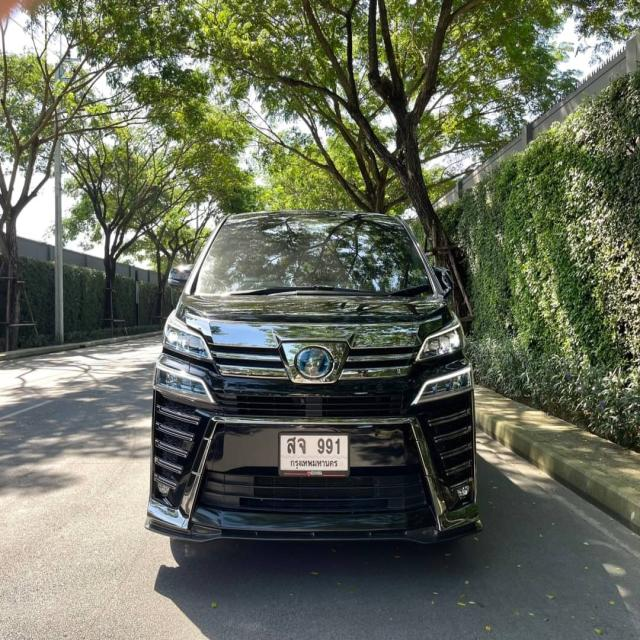license_plate: (278, 431, 351, 479)
